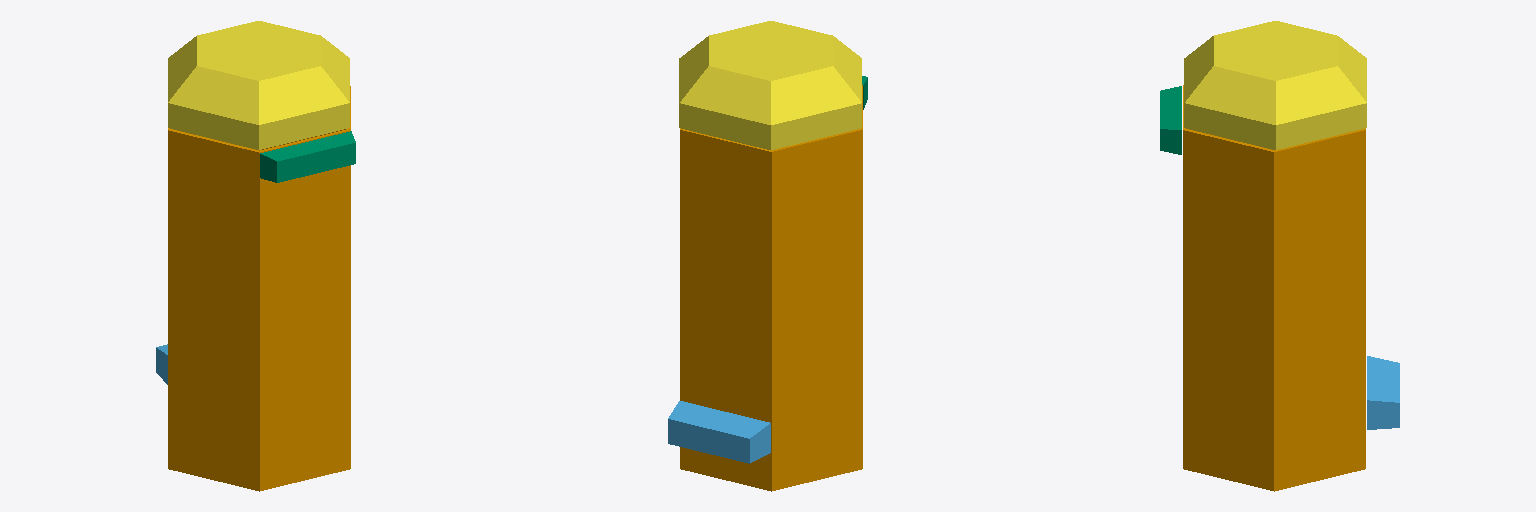
robot.urdf — trashbin:
<?xml version="1.0"?>
<robot name="trashbin">
  <link name="bucket">
    <inertial>
        <origin rpy="0 0 0" xyz="0 0 0"/>
        <mass value="1.0"/>
        <inertia ixx="4.4e-5" ixy="0" ixz="0" iyy="0" iyz="0" izz="4.4e-5"/>
    </inertial>
    <visual>
      <geometry>
        <mesh filename="bucket_visual.obj"/>
      </geometry>
    </visual>
    <collision>
      <geometry>
        <mesh filename="bucket_visual.obj"/>
      </geometry>
      <surface>
           <bounce restitution_coefficient = "0.1"/>
      </surface>
    </collision>
  </link>
  <link name="pedal">
    <inertial>
        <origin rpy="0 0 0" xyz="0 0 0"/>
        <mass value="0.05"/>
        <inertia ixx="4.4e-5" ixy="0" ixz="0" iyy="0" iyz="0" izz="4.4e-5"/>
    </inertial>
    <visual>
      <geometry>
        <mesh filename="pedal.obj"/>
      </geometry>
    </visual>
    <collision>
      <geometry>
        <mesh filename="pedal.obj"/>
      </geometry>
      <surface>
           <bounce restitution_coefficient = "0.1"/>
      </surface>
    </collision>
  </link>
  <link name="hinge">
    <inertial>
        <origin rpy="0 0 0" xyz="0 0 0"/>
        <mass value="0.05"/>
        <inertia ixx="4.4e-5" ixy="0" ixz="0" iyy="0" iyz="0" izz="4.4e-5"/>
    </inertial>
    <visual>
      <geometry>
        <mesh filename="hinge.obj"/>
      </geometry>
    </visual>
    <collision>
      <geometry>
        <mesh filename="hinge.obj"/>
      </geometry>
      <surface>
           <bounce restitution_coefficient = "0.1"/>
      </surface>
    </collision>
  </link>
  <link name="lid">
    <inertial>
        <origin rpy="0 0 0" xyz="0 0 0"/>
        <mass value="0.1"/>
        <inertia ixx="4.4e-5" ixy="0" ixz="0" iyy="0" iyz="0" izz="4.4e-5"/>
    </inertial>
    <visual>
      <geometry>
        <mesh filename="lid.obj"/>
      </geometry>
    </visual>
    <collision>
      <geometry>
        <mesh filename="lid.obj"/>
      </geometry>
      <surface>
           <bounce restitution_coefficient = "0.1"/>
      </surface>
    </collision>
  </link>
  <joint name="bucket_to_pedal" type="fixed">
    <parent link="bucket"/>
    <child link="pedal"/>
    <origin rpy="0 0 0" xyz="0 0.106 -0.203"/>
  </joint>
  <joint name="bucket_to_hinge" type="fixed">
    <parent link="bucket"/>
    <child link="hinge"/>
    <origin rpy="0 0 0" xyz="0 -0.103 0.094"/>
  </joint>
  <joint name="bucket_to_lid" type="fixed">
    <parent link="bucket"/>
    <child link="lid"/>
    <origin rpy="0 0 0" xyz="0 0 0.139"/>
  </joint>
</robot>

--- Facts derived from the render (not from the file) ---
The picture shows the robot from 3 angles, left to right: view 1: azimuth 30°, elevation 25°; view 2: azimuth 150°, elevation 25°; view 3: azimuth 270°, elevation 25°; orthographic projection.
Model trashbin with 4 links and 3 joints (3 fixed), rooted at bucket, posed every joint at zero.
Visible links, largest first — view 1: bucket, lid, hinge; view 2: bucket, lid, pedal; view 3: bucket, lid, pedal, hinge.
Link boxes in pixels (bbox=[...]): bucket: bbox=[168, 86, 350, 491]; lid: bbox=[168, 21, 349, 149]; hinge: bbox=[260, 131, 355, 182]; bucket: bbox=[680, 85, 862, 491]; lid: bbox=[679, 21, 861, 149]; pedal: bbox=[668, 401, 770, 463]; bucket: bbox=[1183, 85, 1365, 491]; lid: bbox=[1184, 21, 1366, 149]; pedal: bbox=[1367, 356, 1399, 429]; hinge: bbox=[1160, 86, 1181, 154].
Size in the robot's own frame: 0.2077 by 0.2361 by 0.43 metres.
4 mesh visuals loaded from 4 distinct referenced files (4 OBJ).